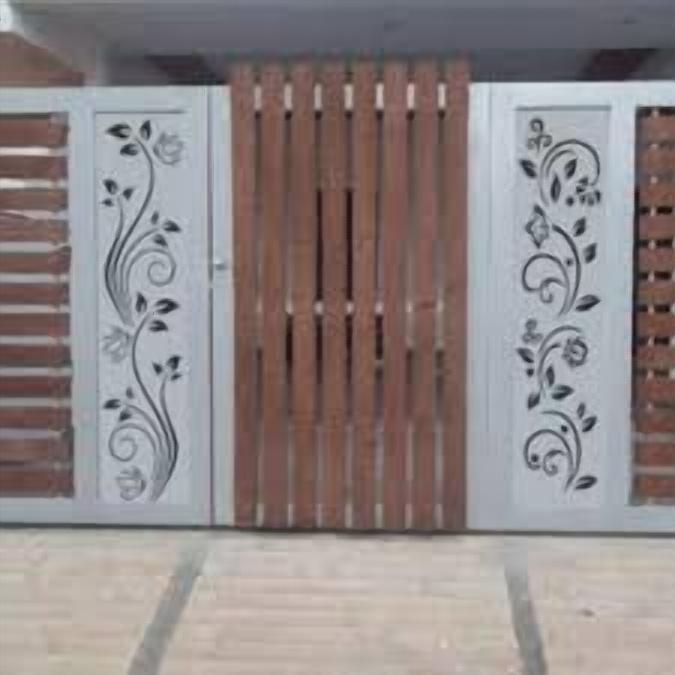Gate: (0, 58, 675, 539)
